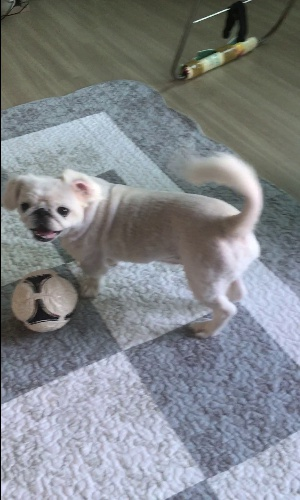ddubi: (2, 149, 270, 341)
